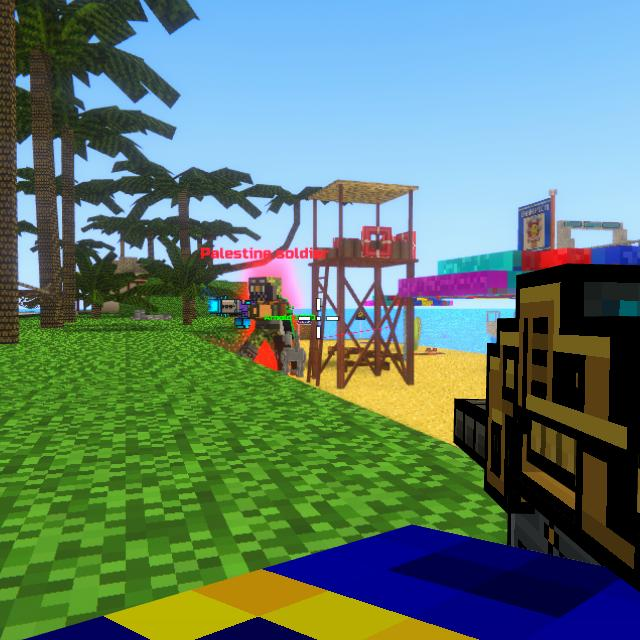Enemy: (238, 278, 299, 371)
